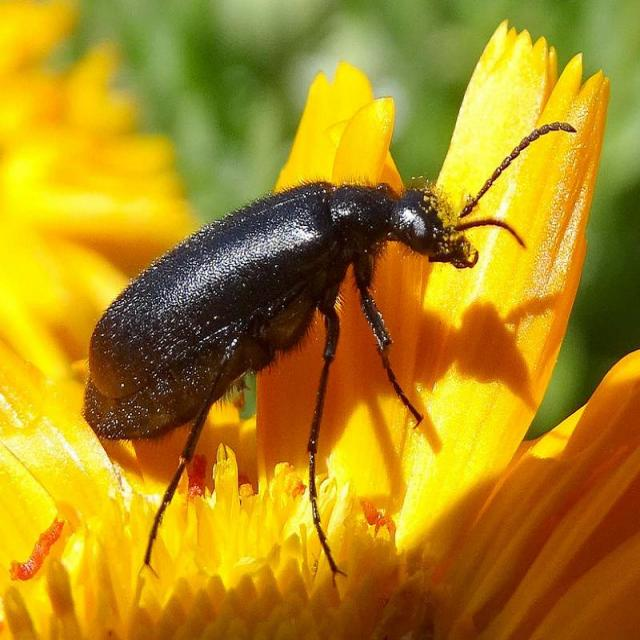BlisterBeetle-Adult-: (26, 104, 585, 502)
